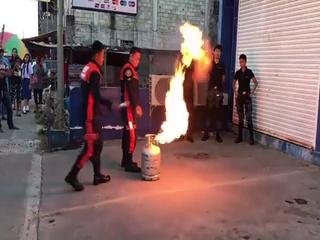Fire: (153, 18, 209, 144)
